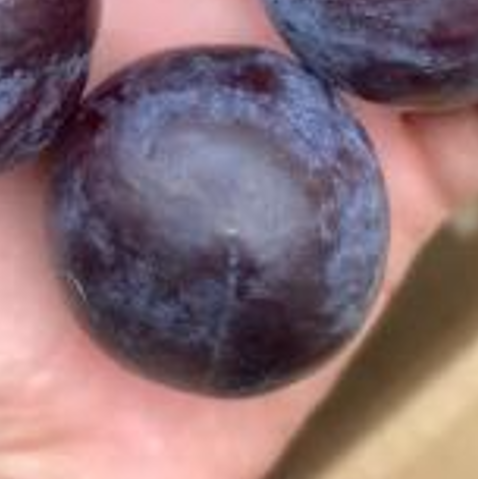plum_A: (46, 45, 391, 394)
